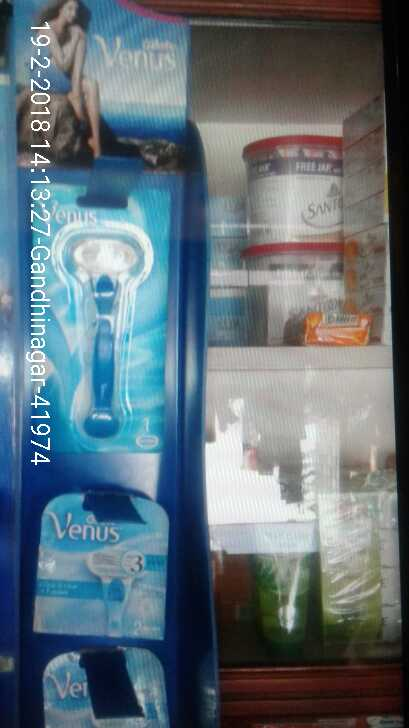venus: (39, 178, 180, 456), (18, 485, 178, 643)
